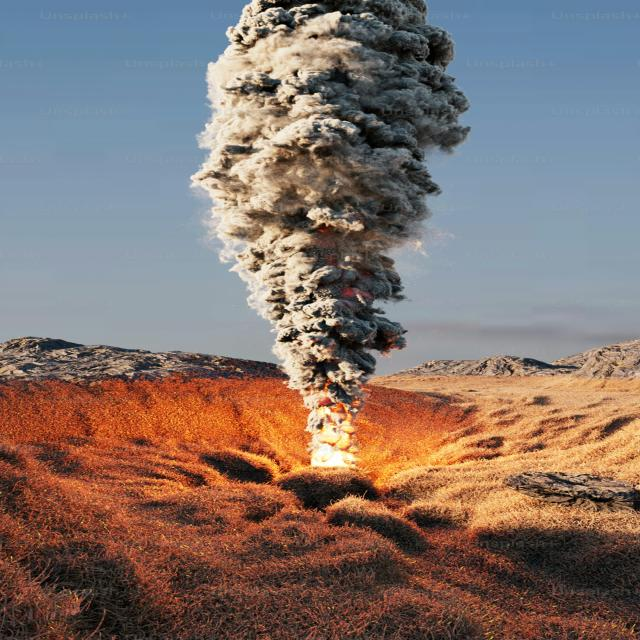explosion: (102, 12, 526, 549)
